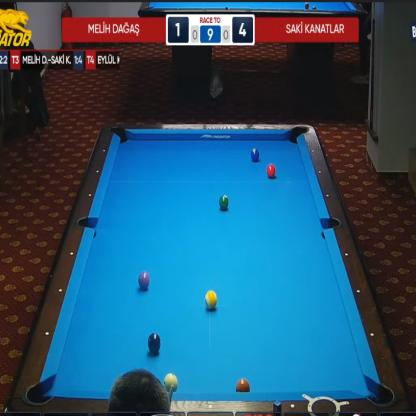Ball: (147, 332, 161, 353), (163, 373, 178, 391), (204, 290, 217, 309), (138, 271, 150, 290), (235, 378, 250, 393), (250, 148, 260, 162), (219, 195, 228, 210), (266, 164, 276, 177)
